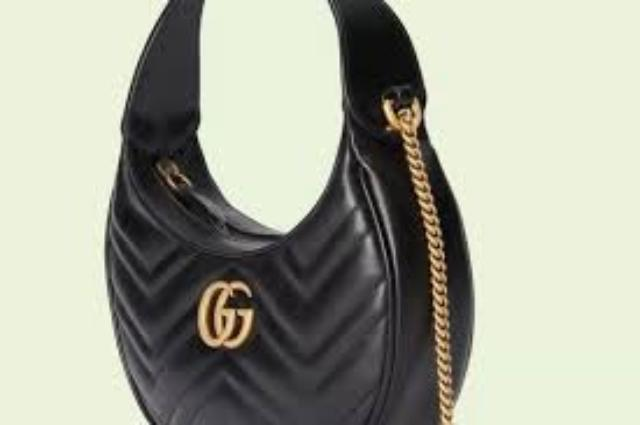Gucci: (183, 276, 267, 354)
